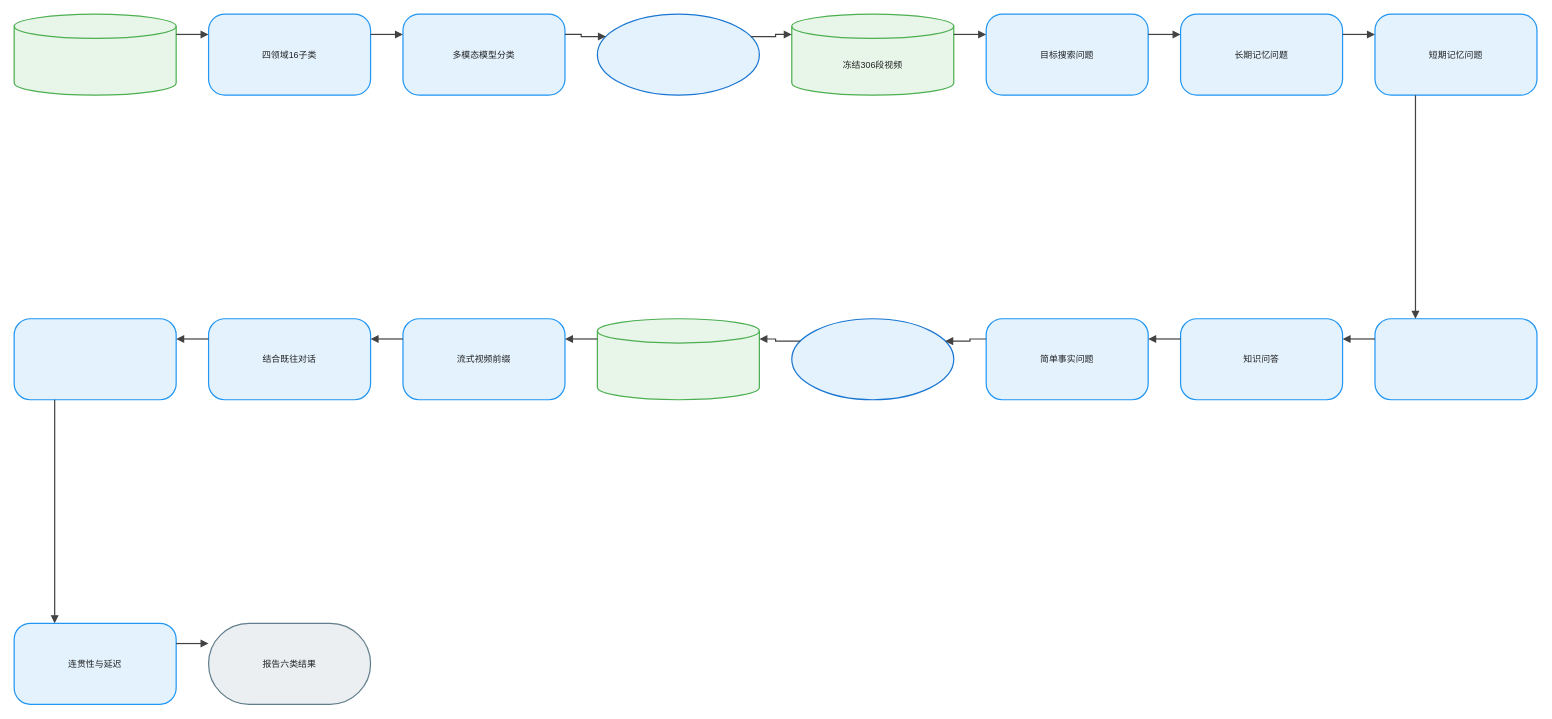
This 1552x719 diagram has some shape labels left out. The centre of each missing label's shape, as x and y in pixels:
EgoSchema与YT8M: the point at 94,54
LLaMA-3评分: the point at 94,359
人工反馈复核: the point at 872,359
人工过滤噪声: the point at 678,54
冻结约1800组问答: the point at 678,359
对话回溯问题: the point at 1455,359
